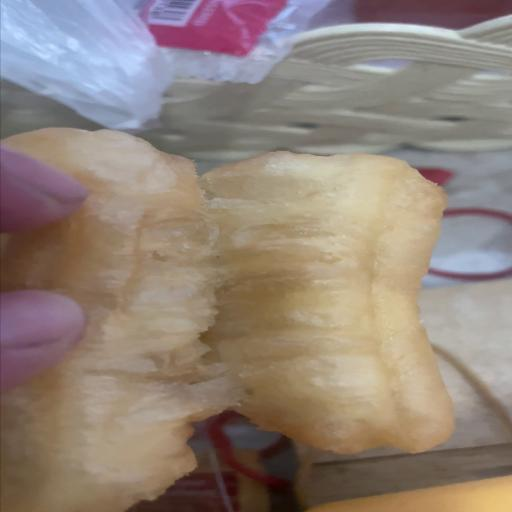street_golden_defect: (0, 128, 453, 512)
